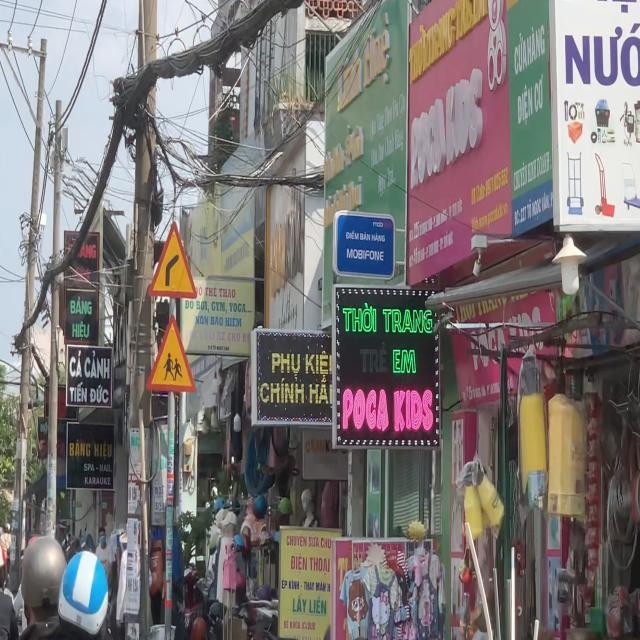Nguy hiem: (144, 312, 199, 398), (146, 216, 199, 303)
